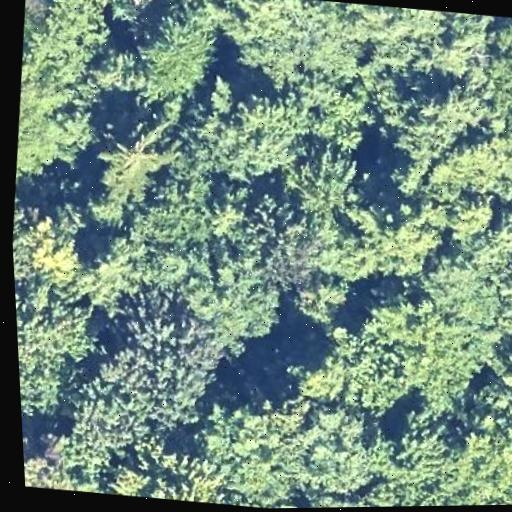tree-top: (368, 86, 512, 247), (77, 300, 235, 428), (364, 283, 487, 412), (209, 0, 377, 94), (361, 3, 505, 96), (120, 172, 232, 289), (14, 277, 101, 424), (9, 57, 100, 196), (383, 412, 512, 507), (192, 85, 310, 186), (196, 400, 303, 509), (279, 399, 381, 507), (187, 257, 295, 358), (310, 317, 412, 421), (232, 199, 329, 302), (129, 7, 227, 102), (342, 191, 443, 283), (58, 225, 152, 320), (291, 68, 389, 157), (10, 195, 94, 298), (428, 236, 512, 336), (17, 0, 113, 85), (90, 116, 177, 206), (281, 137, 370, 220), (21, 413, 99, 493), (139, 446, 235, 506), (467, 13, 512, 112), (52, 0, 206, 25)
